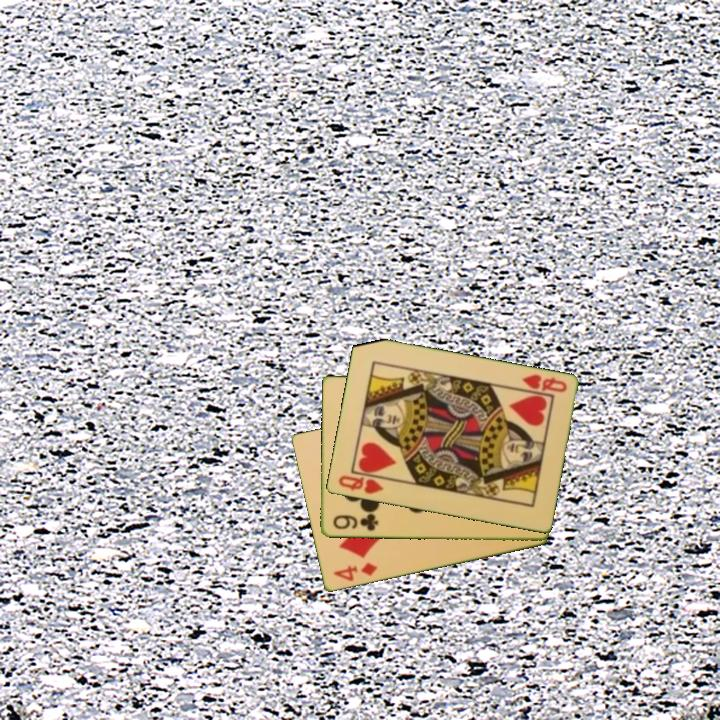4d: (329, 559, 380, 585)
9c: (329, 512, 381, 534)
Qh: (335, 472, 386, 497), (518, 371, 569, 395)
